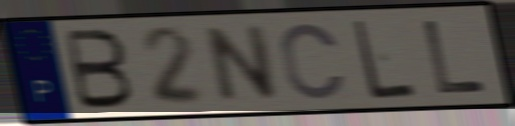2: (139, 24, 210, 108)
B: (62, 27, 137, 112)
C: (277, 20, 350, 103)
L: (350, 17, 420, 102), (419, 18, 491, 97)
N: (204, 22, 281, 106)
